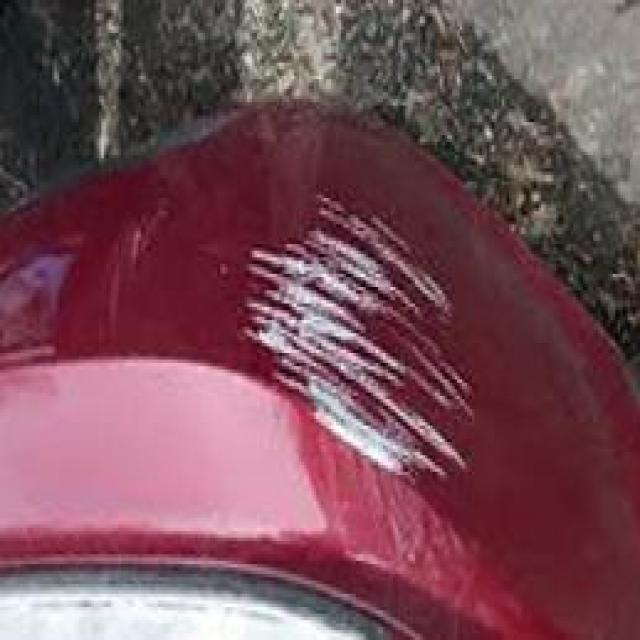scratch: (224, 170, 494, 503)
